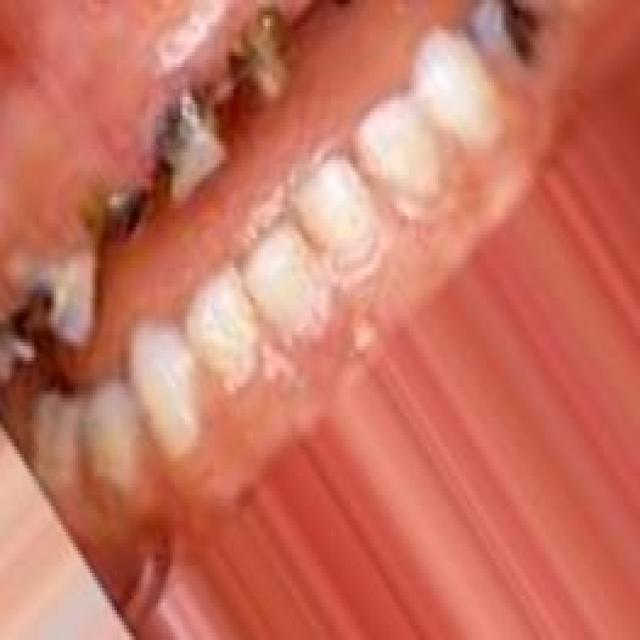caries: (145, 85, 226, 201), (220, 5, 298, 106), (468, 0, 551, 86), (74, 169, 151, 255), (0, 260, 68, 354)
